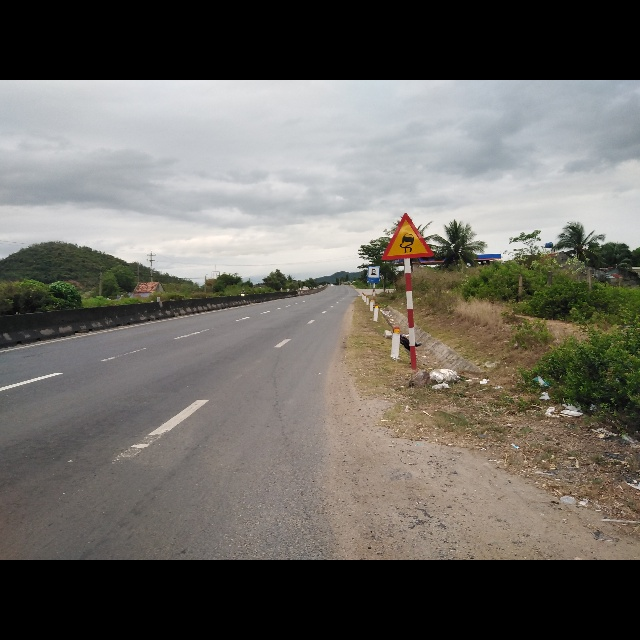Đường trơn trượt: (382, 212, 433, 261)
